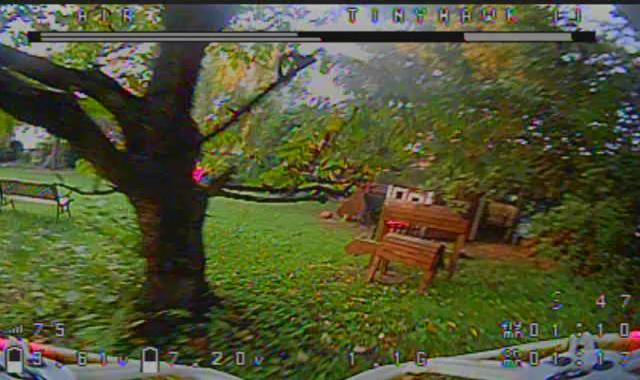horse: (333, 164, 472, 269), (346, 226, 461, 300)
